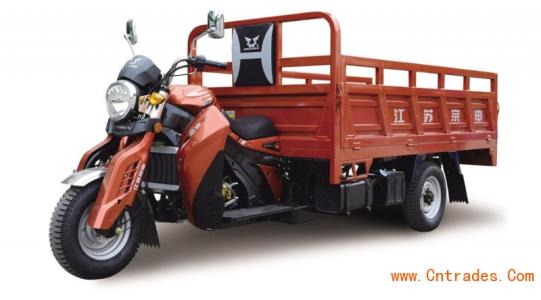tricycle: (59, 27, 511, 263)
